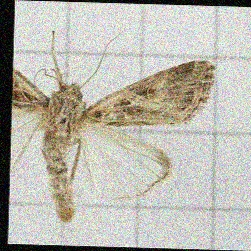Spodoptera litura: (10, 31, 214, 225)
